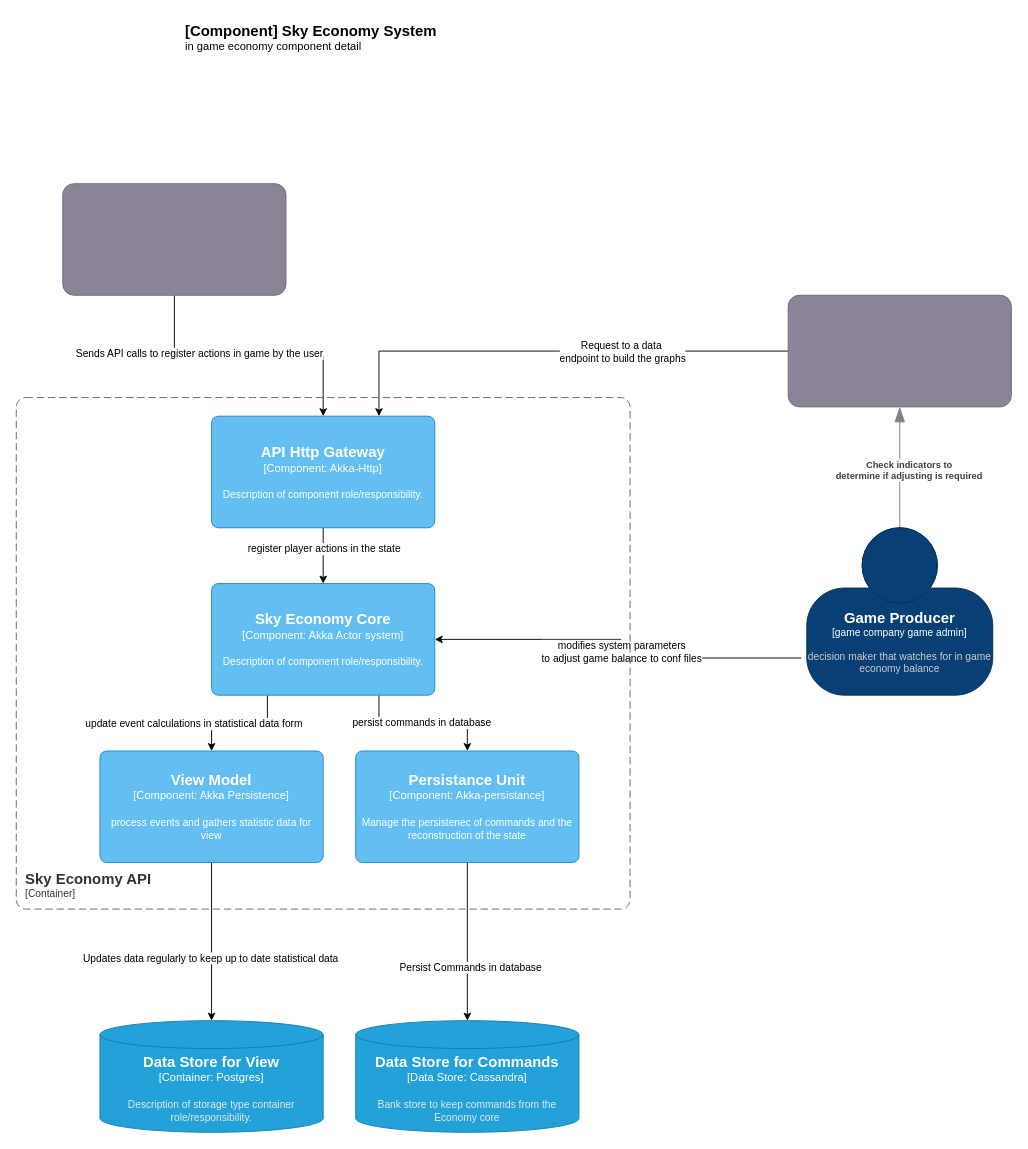
The diagram is 1028 pixels wide and 1149 high, and some of its shapes have lost their labels. Here are the shapes that lost their labels. From the top down, the centre of each, then its label:
At [174,239]: "Game UI [Software System] Description of external software system.".
At [899,350]: "reporting tool [Graphana] tool to visualize economy data".
